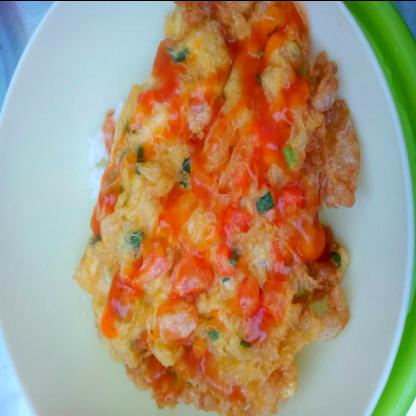Omelette: (72, 0, 364, 408)
